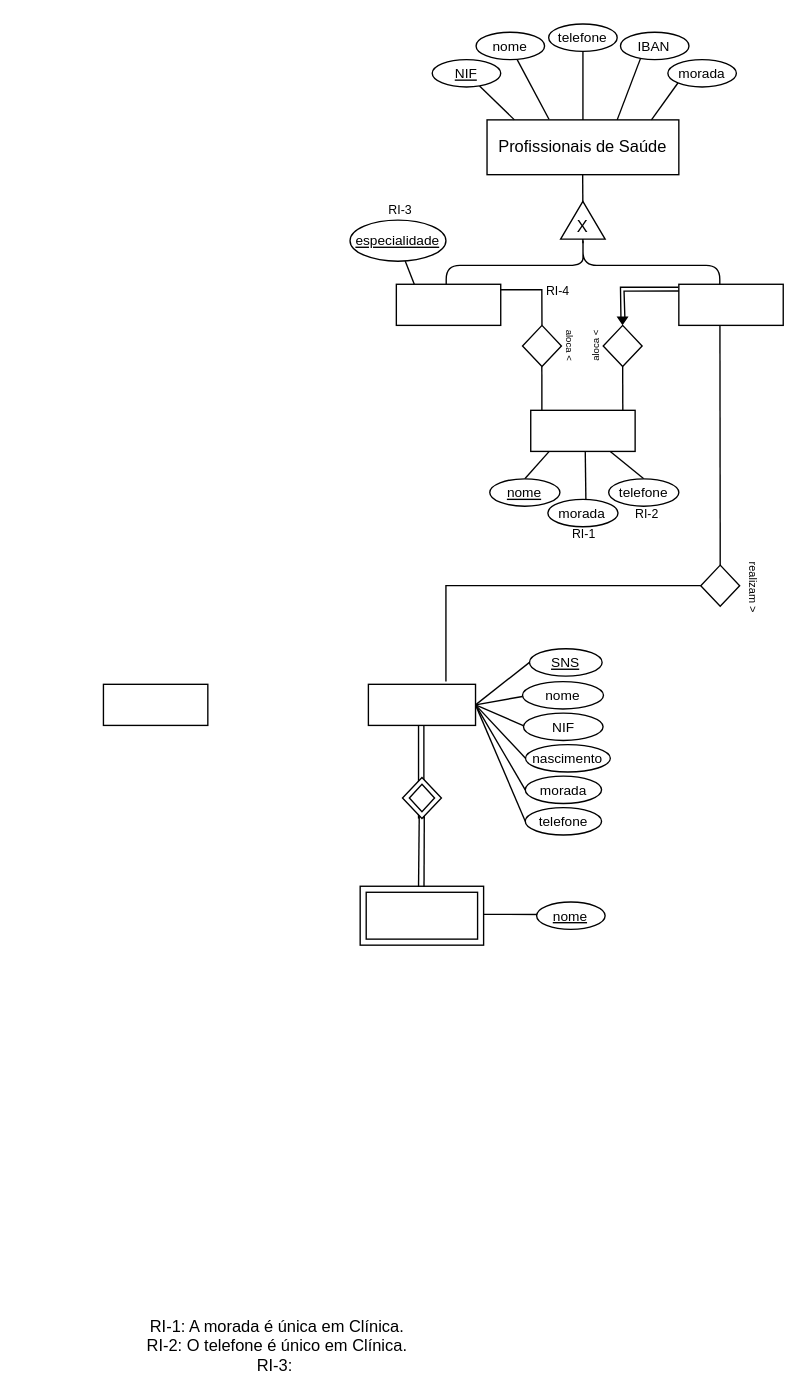
This 807x1399 diagram has some shape labels left out. The centre of each missing label's shape, as x and y in pixels:
"Clínica" goes at (x=582, y=430).
"Enfermeiros" goes at (x=730, y=304).
"Horário" goes at (x=155, y=704).
"Médicos" goes at (x=448, y=304).
"Paciente" goes at (x=421, y=704).
"Sistemas de saúde" goes at (x=421, y=915).
